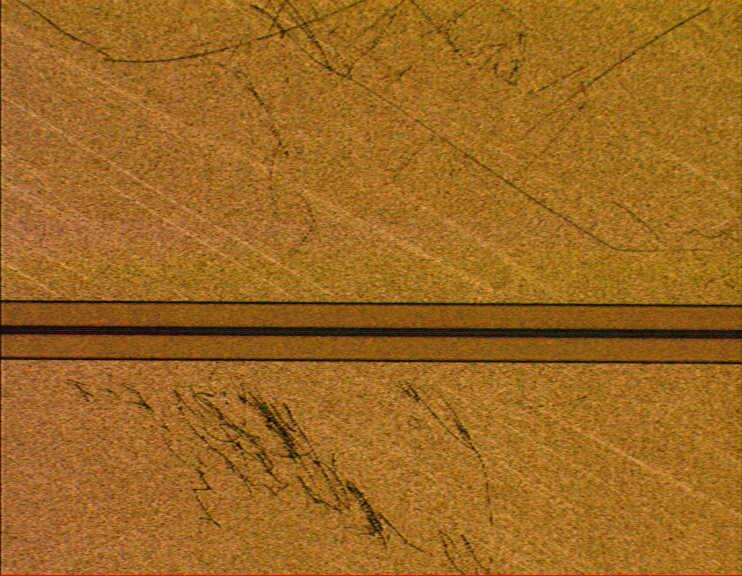SCRATCH: (11, 1, 742, 576)
